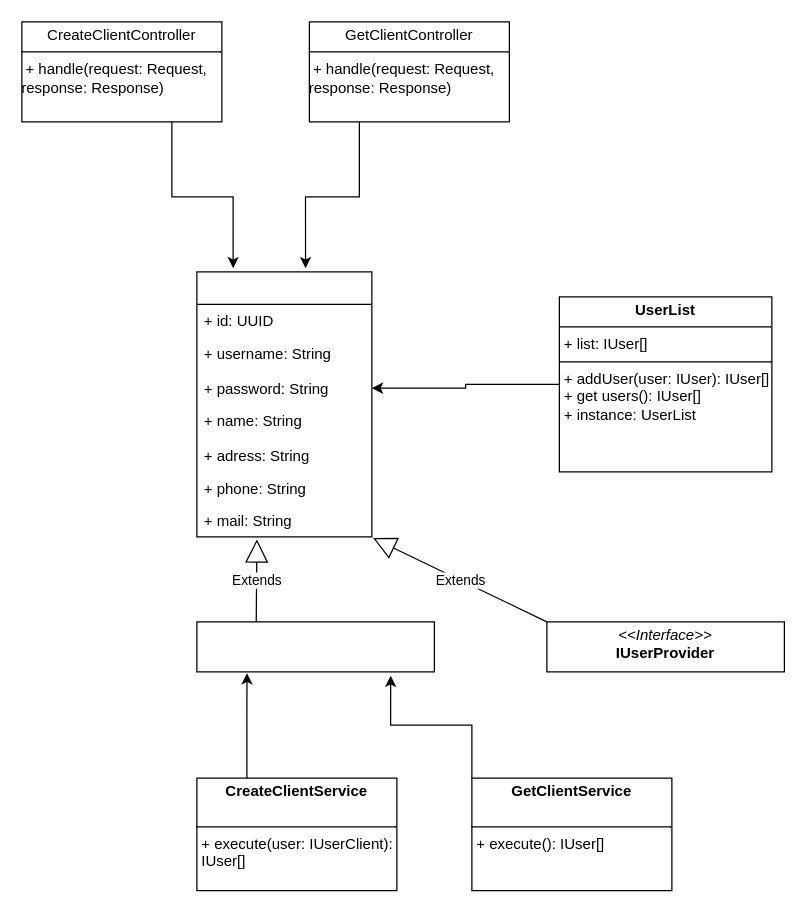
Some shapes in this 806 by 913 pixel diagram are drawn without their labels. Here are the shapes that lost their labels. From the top down, the box of each, then its label:
(196, 271, 372, 537): IUser
(196, 621, 434, 672): <<Interface>> IUserClient
